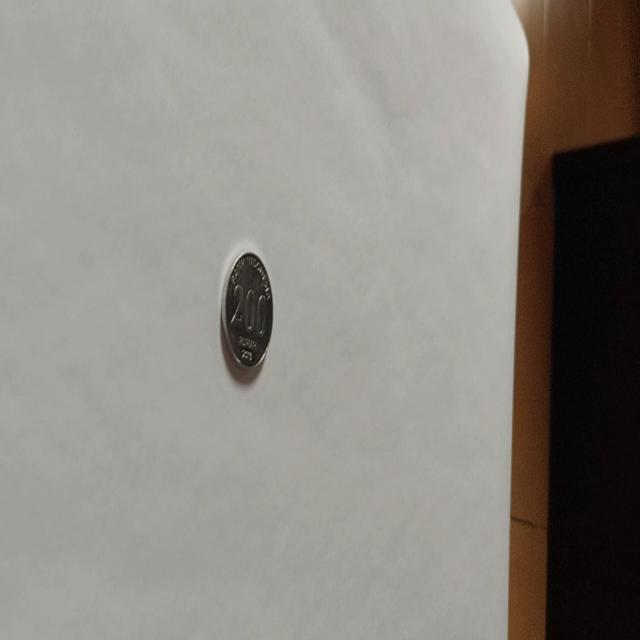dua ratus rupiah: (220, 248, 274, 372)
